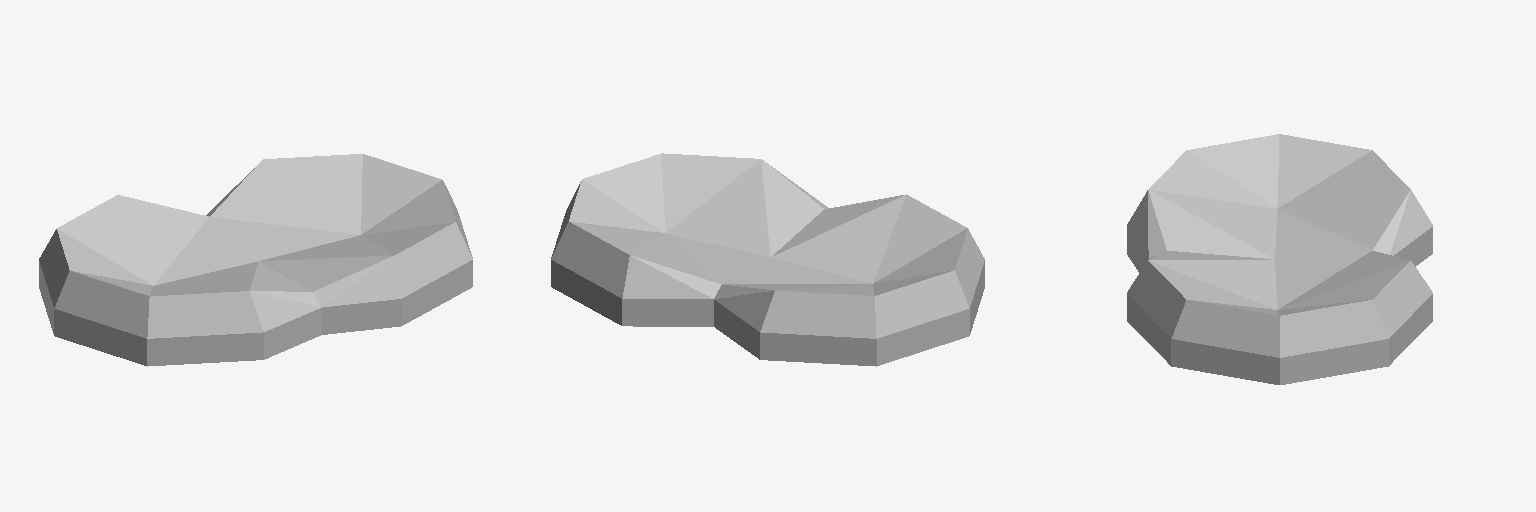
File: Pastry02.obj
3 views of the same model, side by side, from view 1: azimuth 30°, elevation 25°; view 2: azimuth 150°, elevation 25°; view 3: azimuth 270°, elevation 25° (orthographic).
Parts seen in each view (by area): view 1: Pastry02; view 2: Pastry02; view 3: Pastry02.
Part boxes in pixels (x1,y1,x2,y2): Pastry02: (39,154,472,366); Pastry02: (551,153,984,366); Pastry02: (1127,134,1432,384).
Bounding box in the file's own units: 0.2539 × 0.0374 × 0.1673.